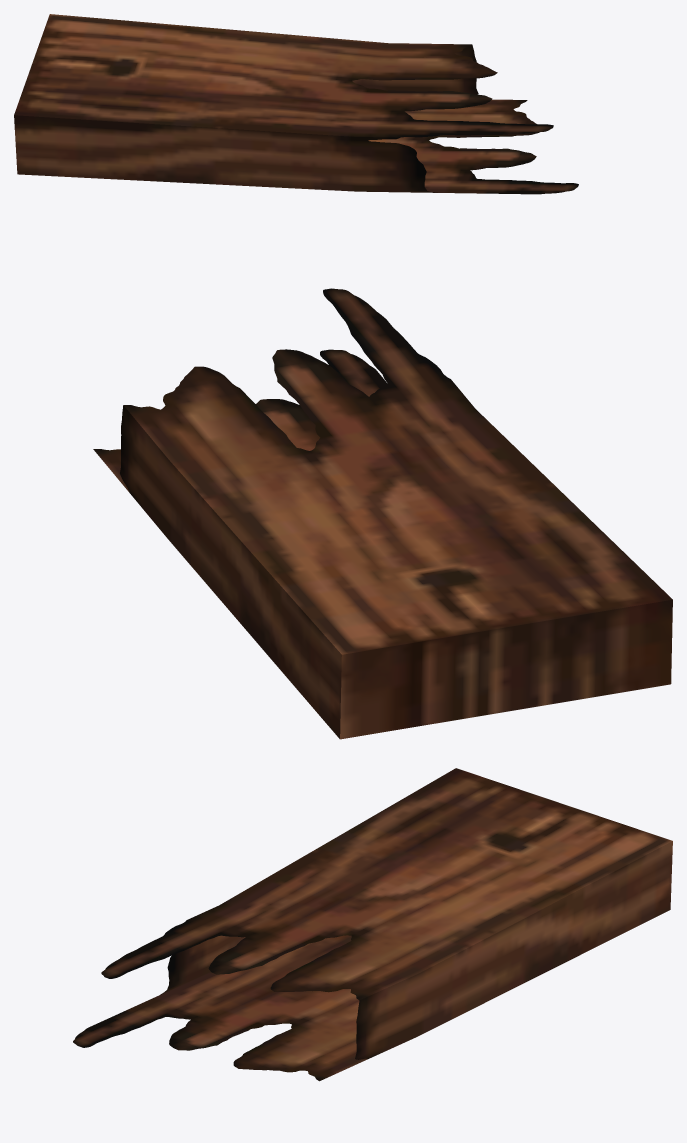
Rendered from OVERHILL_A_01_BROKEN_BOARD_11.fbx.
The picture shows the model from 3 angles, top to bottom: view 1: azimuth 30°, elevation 25°; view 2: azimuth 150°, elevation 25°; view 3: azimuth 270°, elevation 25°; orthographic projection. The views are drawn at different scales.
Parts seen in each view (by area): view 1: OVERHILL_A_01_BROKEN_BOARD_11; view 2: OVERHILL_A_01_BROKEN_BOARD_11; view 3: OVERHILL_A_01_BROKEN_BOARD_11.
Part boxes in pixels (bbox=[...]): OVERHILL_A_01_BROKEN_BOARD_11: bbox=[14, 14, 578, 194]; OVERHILL_A_01_BROKEN_BOARD_11: bbox=[93, 288, 672, 739]; OVERHILL_A_01_BROKEN_BOARD_11: bbox=[73, 768, 672, 1081].
Bounding box in the file's own units: 9294 × 1100 × 8368.
1 material, 1 textured.
